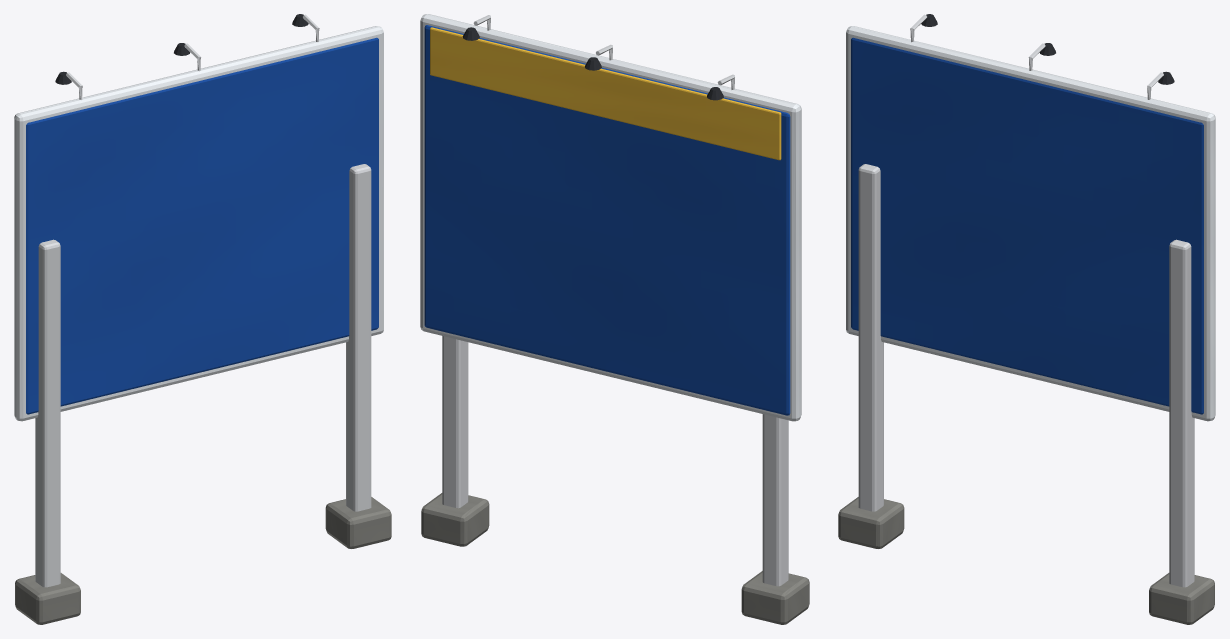
File: SW_PriceBoard.glb
The picture shows the model from 3 angles, left to right: view 1: azimuth 30°, elevation 25°; view 2: azimuth 150°, elevation 25°; view 3: azimuth 330°, elevation 25°; orthographic projection. The views are drawn at different scales.
Visible parts, largest first — view 1: Board; view 2: Board; view 3: Board.
Boxes of the visible parts, x1,y1,x2,y2 form: Board: (14,14,391,624); Board: (420,14,809,624); Board: (838,14,1215,624).
Size of the model in its own units: 2.48 by 3.35 by 0.45.
Materials: 2 (1 with a texture image).
